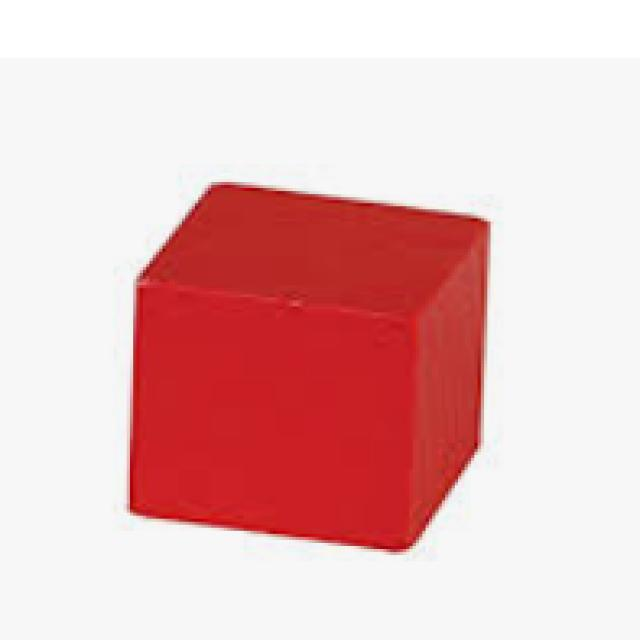red cube: (124, 174, 494, 553)
